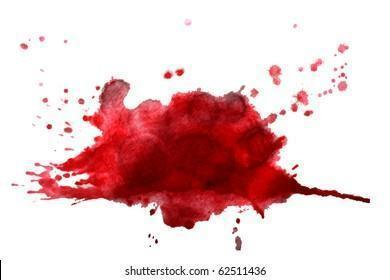Fire: (30, 79, 371, 228), (278, 44, 348, 116), (32, 82, 96, 158), (9, 174, 42, 202), (19, 35, 70, 52), (269, 64, 287, 88), (147, 233, 160, 248), (236, 235, 243, 252), (164, 70, 174, 78), (175, 68, 184, 76), (184, 18, 192, 26), (233, 227, 237, 234), (236, 218, 240, 224)
